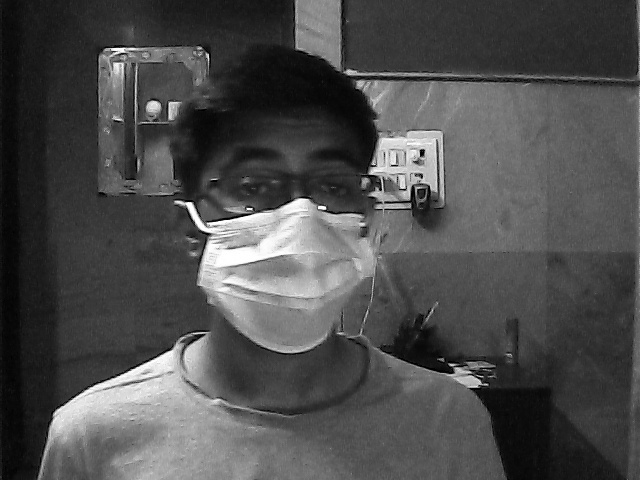mask: (190, 126, 378, 361)
